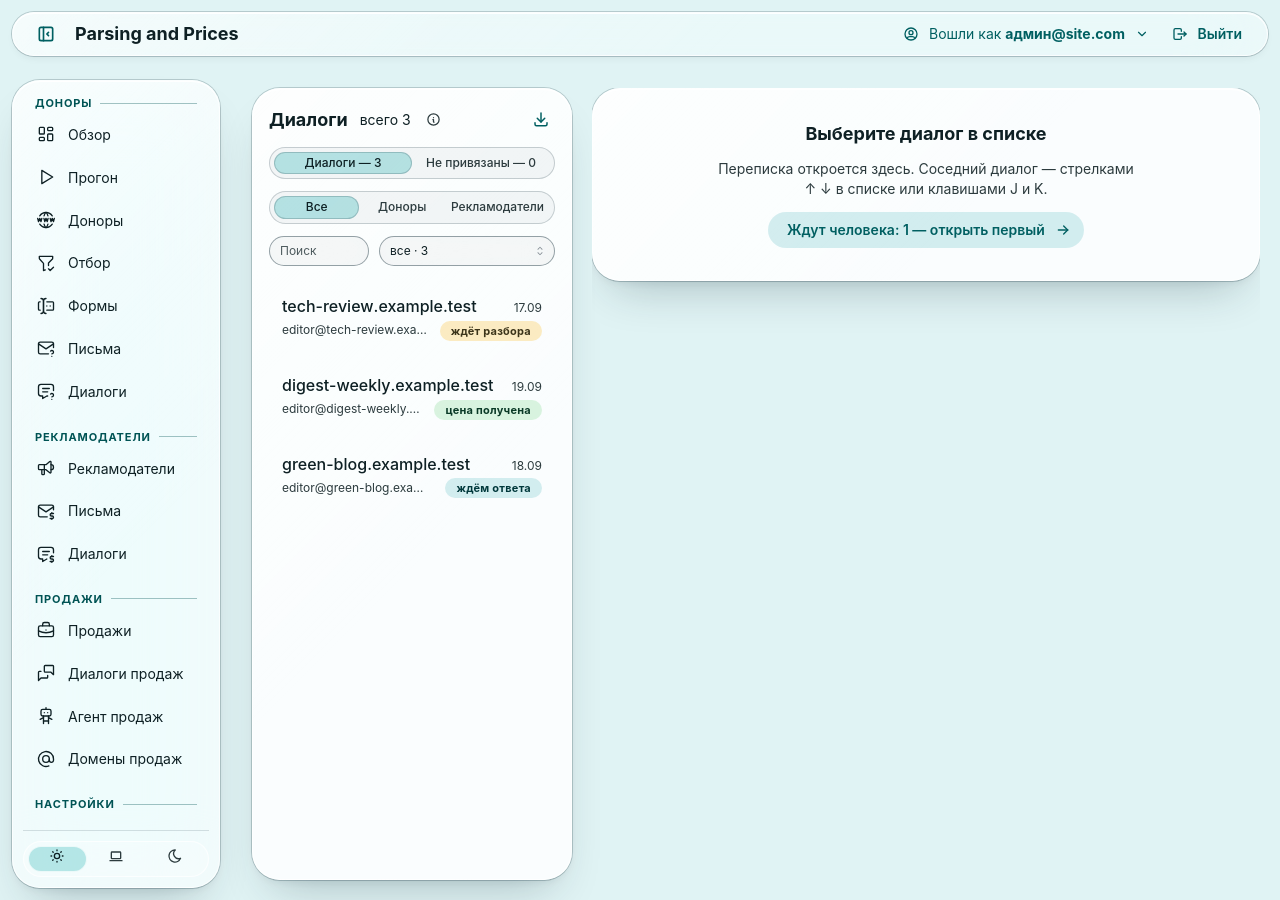
Scenario: диалоги на широком окне: список и переписка рядом › без выбранного — не пустота: что делать и кнопка к первому ждущему
The width and height of the screenshot is (1280, 900).
Expected: the heading "Выберите диалог в списке" is shown, [805, 121, 1047, 147]
Click the link "Ждут человека: 1 — открыть первый". click: [926, 230]
box: [768, 212, 1084, 248]
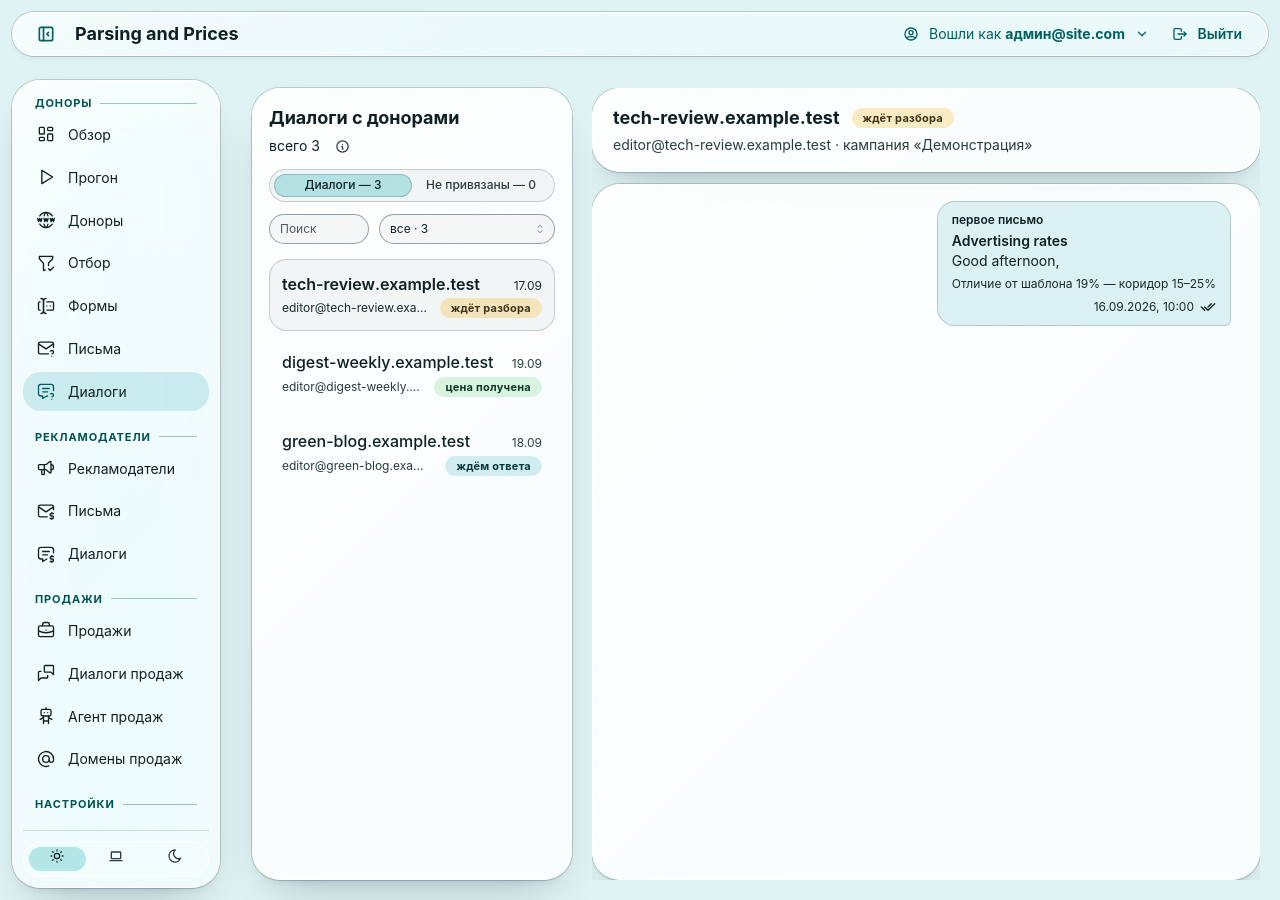
Expected: the heading "tech-review.example.test" is shown, [613, 105, 840, 131]
